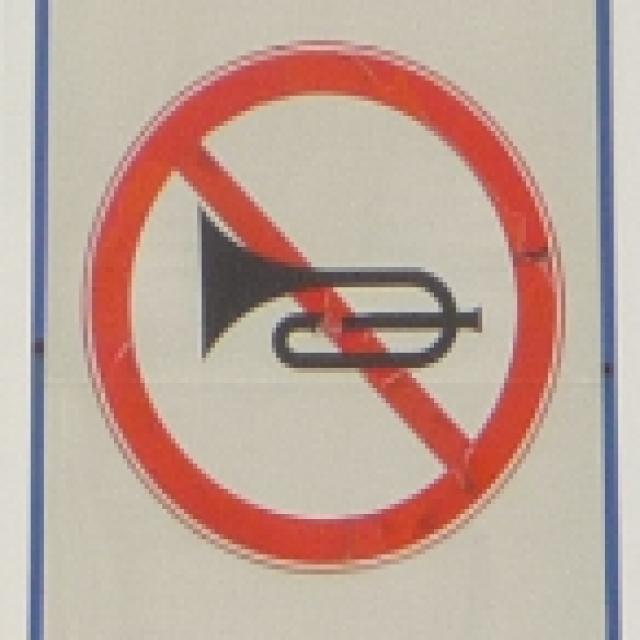No Horn: (84, 38, 572, 576)
